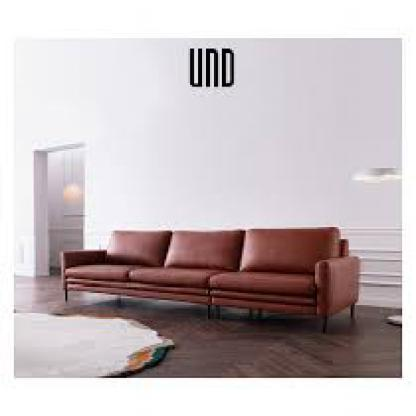sofa: (66, 227, 378, 340)
